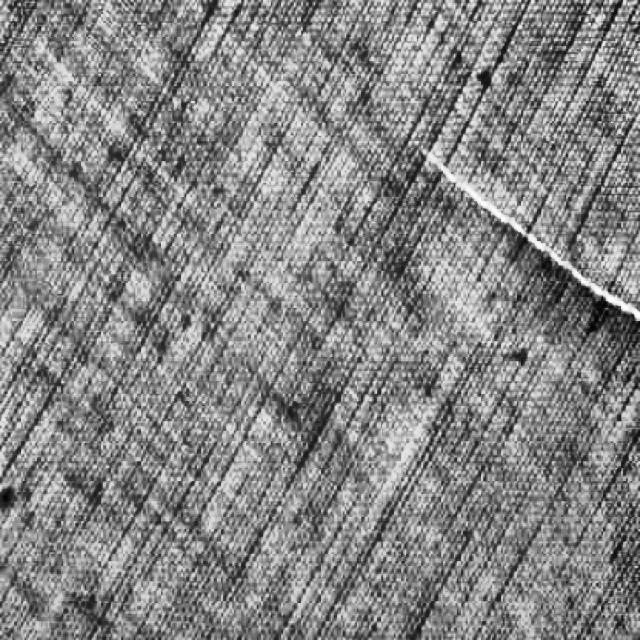hole: (412, 133, 640, 334)
